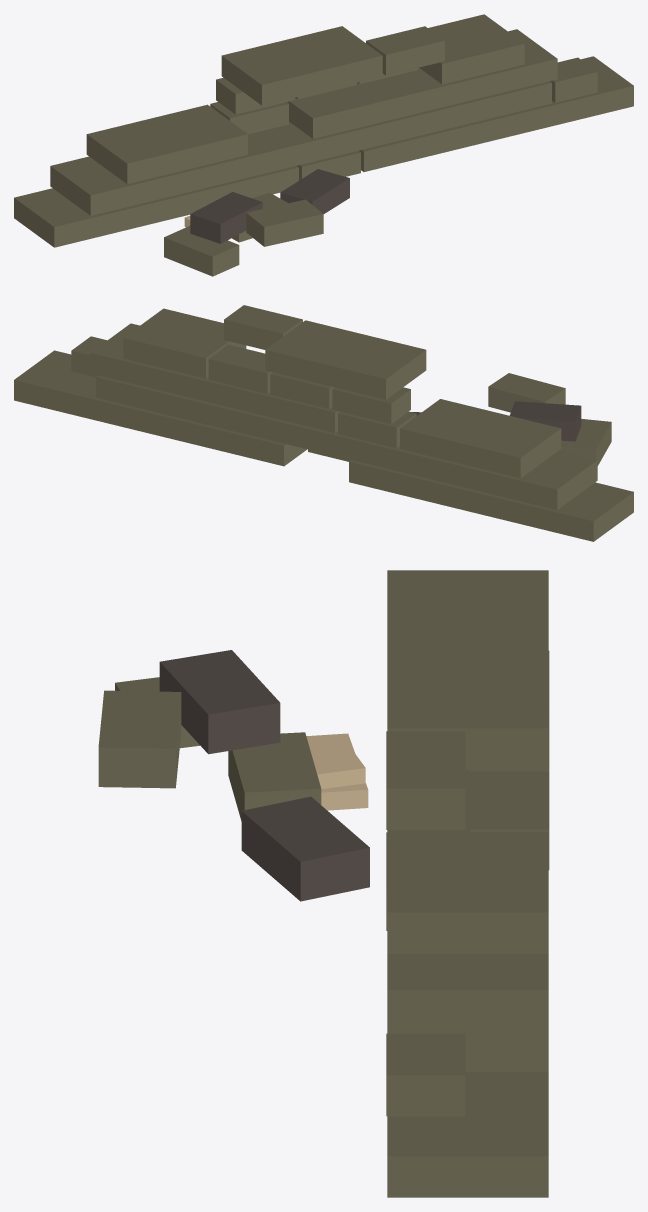
File: SM_MuroSacos_v1_Talud_e1_Danado_LOD1.fbx
3 views of the same model, one above another, from view 1: azimuth 30°, elevation 25°; view 2: azimuth 150°, elevation 25°; view 3: azimuth 270°, elevation 25° (orthographic). The views are drawn at different scales.
Parts seen in each view (by area): view 1: SM_bloques.muro_sacos_estados_v5_LOD1; view 2: SM_bloques.muro_sacos_estados_v5_LOD1; view 3: SM_bloques.muro_sacos_estados_v5_LOD1.
Boxes of the visible parts, bbox=[...] form: SM_bloques.muro_sacos_estados_v5_LOD1: bbox=[14, 14, 633, 276]; SM_bloques.muro_sacos_estados_v5_LOD1: bbox=[14, 305, 633, 541]; SM_bloques.muro_sacos_estados_v5_LOD1: bbox=[98, 570, 549, 1197].
Size of the model in its own units: 7.96 by 1.49 by 2.68.
